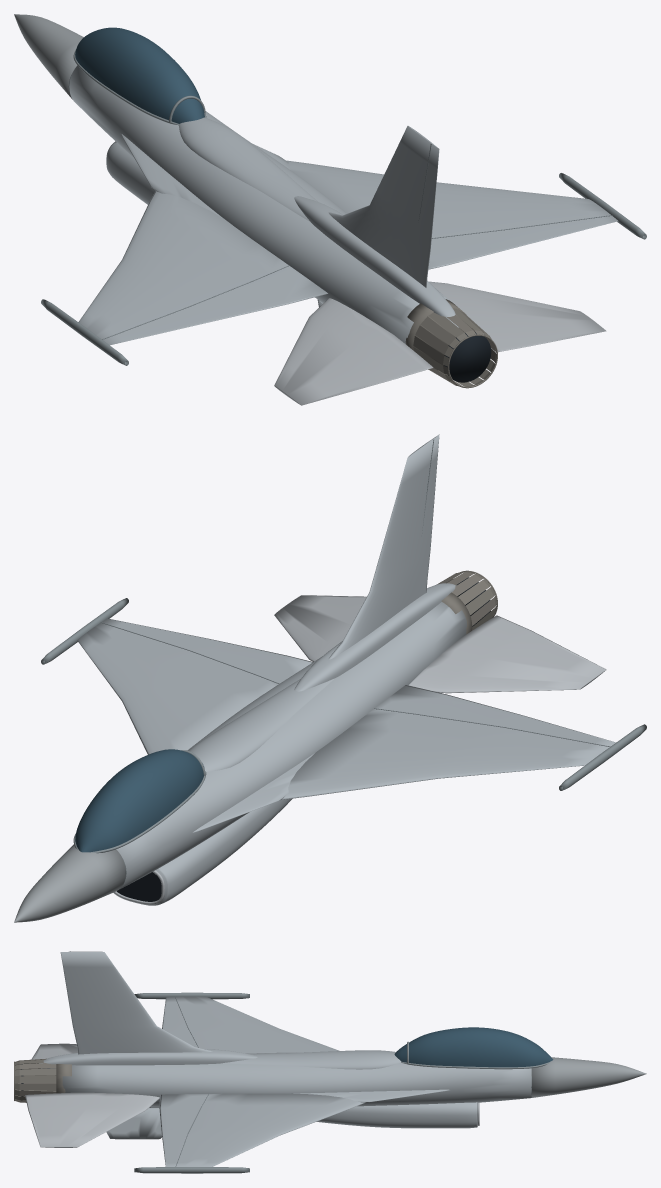
3 renders of one model, top to bottom at view 1: azimuth 30°, elevation 25°; view 2: azimuth 150°, elevation 25°; view 3: azimuth 270°, elevation 25°, orthographic. The views are drawn at different scales.
Parts seen in each view (by area): view 1: static.airframe | neutral grey, static.control surfaces, static.tinted canopy, static.nozzle titanium, static.dielectric radome, static.canopy frame, static.deep recess, static.panel seams; view 2: static.airframe | neutral grey, static.control surfaces, static.tinted canopy, static.dielectric radome, static.canopy frame, static.nozzle titanium, static.deep recess, static.panel seams; view 3: static.airframe | neutral grey, static.control surfaces, static.tinted canopy, static.dielectric radome, static.nozzle titanium, static.canopy frame.
Boxes of the visible parts, x1,y1,x2,y2 form: static.airframe | neutral grey: (69,65,618,345); static.control surfaces: (274,281,606,405); static.tinted canopy: (75,27,204,123); static.nozzle titanium: (405,299,497,388); static.dielectric radome: (14,14,83,99); static.canopy frame: (41,49,646,365); static.deep recess: (443,332,491,382); static.panel seams: (68,73,612,339); static.airframe | neutral grey: (77,434,615,905); static.control surfaces: (114,595,606,904); static.tinted canopy: (75,749,204,852); static.dielectric radome: (14,844,125,922); static.canopy frame: (41,598,646,853); static.nozzle titanium: (437,570,497,634); static.deep recess: (116,577,490,901); static.panel seams: (100,439,610,884); static.airframe | neutral grey: (39,951,531,1166); static.control surfaces: (25,1043,479,1147); static.tinted canopy: (394,1027,553,1067); static.dielectric radome: (531,1057,646,1097); static.nozzle titanium: (14,1058,71,1102); static.canopy frame: (134,992,550,1173).
Size of the model in its own units: 9.97 by 4.58 by 15.11.
